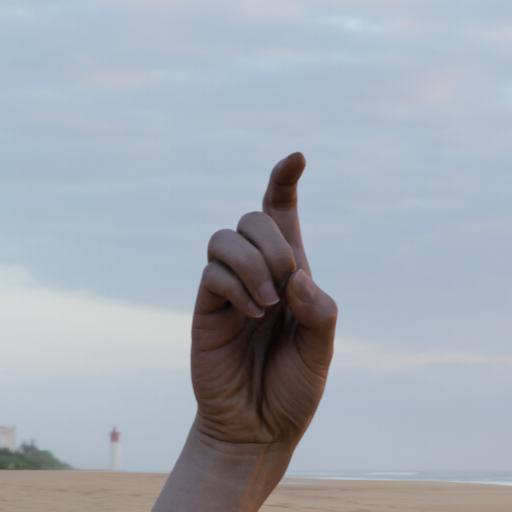X: (176, 146, 344, 458)
